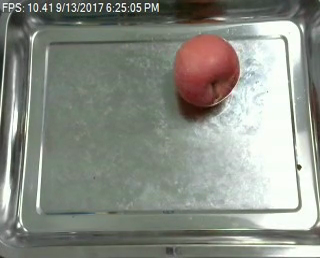Apple: (171, 34, 242, 107)
